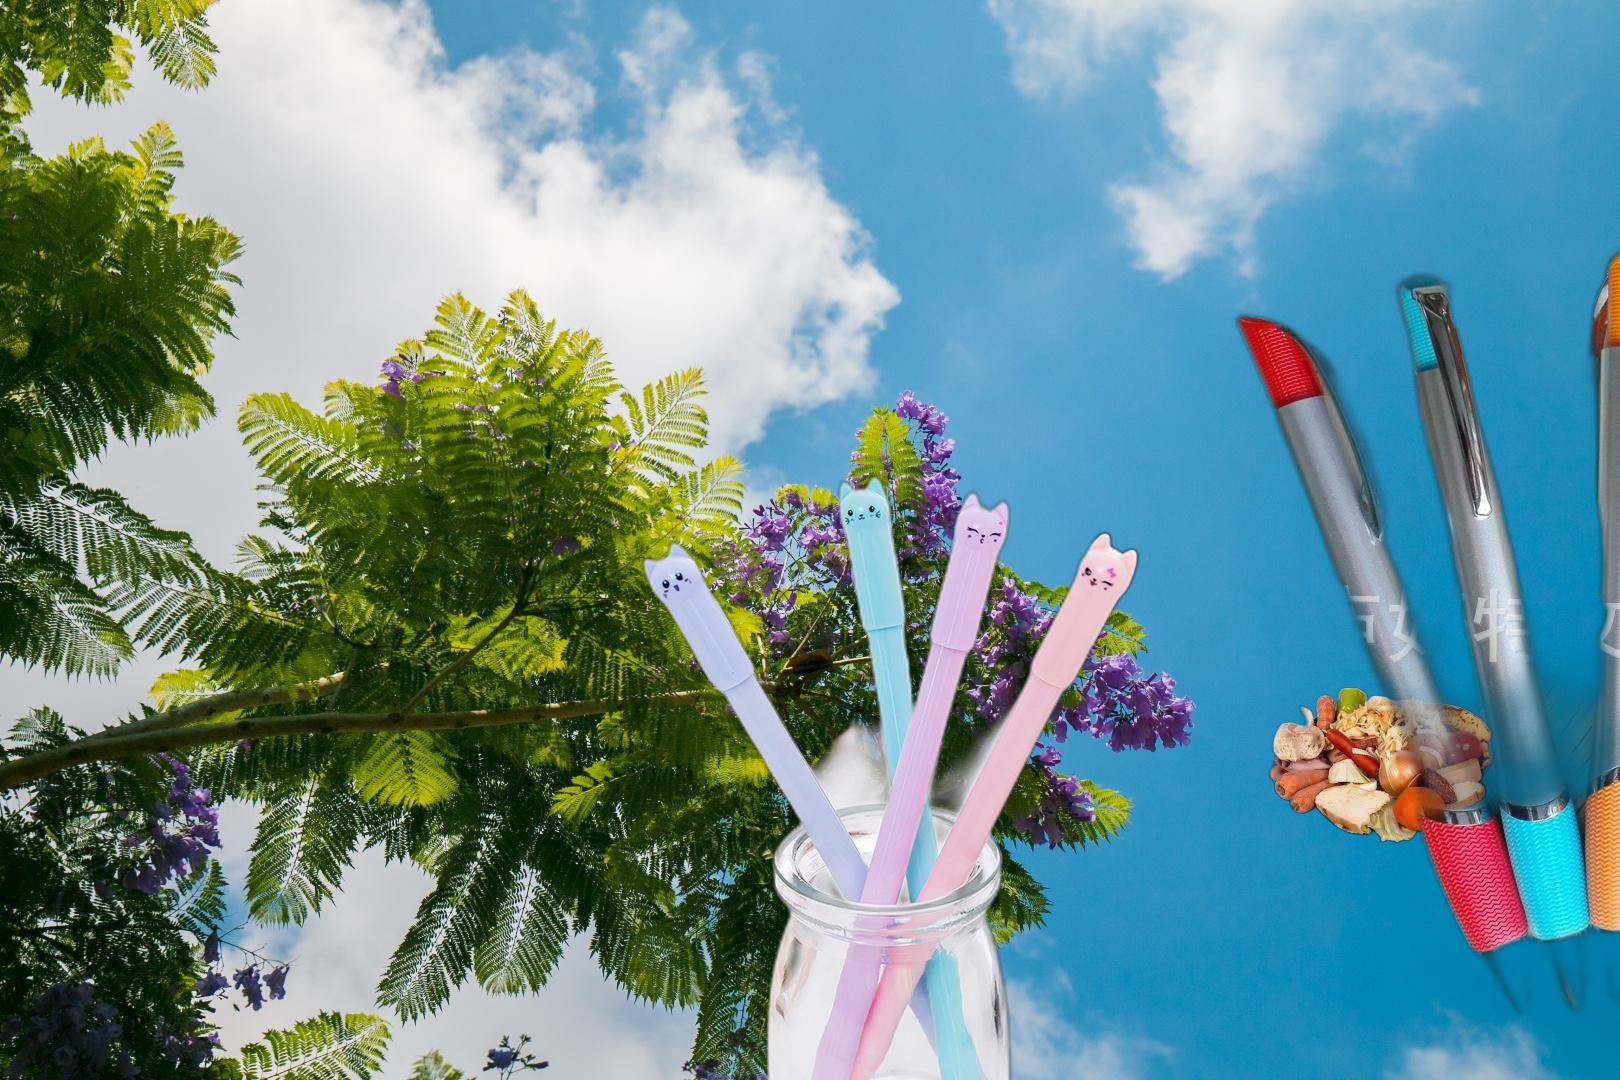biological: (1268, 685, 1495, 847)
penholder: (1227, 153, 1620, 1051), (636, 469, 1145, 1080)
